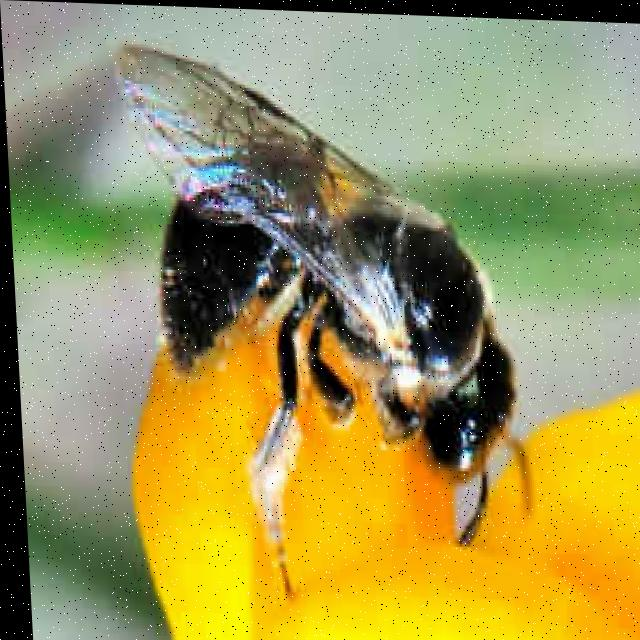Braunsapis: (121, 22, 529, 558)
